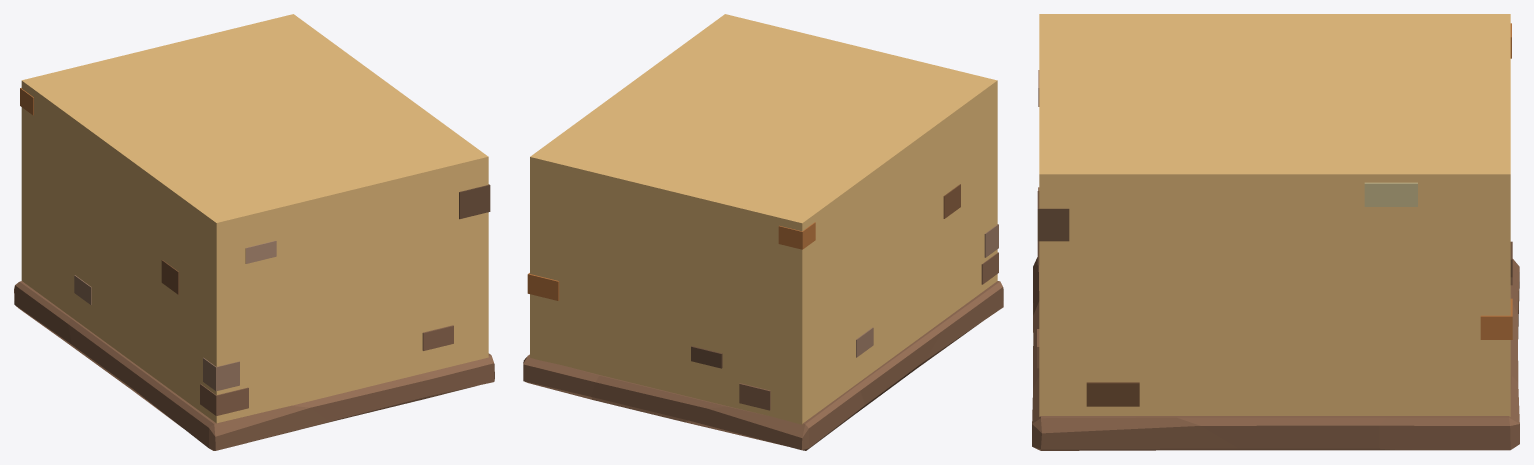
The model's file is House_1Floor_B.fbx.
3 views of the same model, side by side, from view 1: azimuth 30°, elevation 25°; view 2: azimuth 150°, elevation 25°; view 3: azimuth 270°, elevation 25° (orthographic). The views are drawn at different scales.
Parts seen in each view (by area): view 1: House_1Floor_B; view 2: House_1Floor_B; view 3: House_1Floor_B.
Boxes of the visible parts, bbox=[...] form: House_1Floor_B: bbox=[14, 14, 494, 450]; House_1Floor_B: bbox=[523, 14, 1003, 450]; House_1Floor_B: bbox=[1032, 14, 1519, 450].
Bounding box in the file's own units: 319 × 242 × 390.
